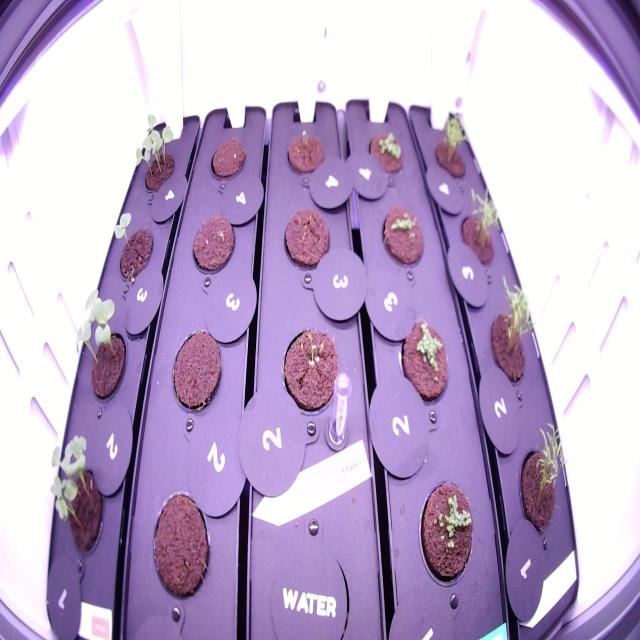germination: (43, 431, 112, 566), (511, 416, 576, 549), (414, 474, 479, 598), (274, 318, 346, 424), (72, 282, 132, 409), (481, 272, 543, 394), (394, 310, 453, 420), (453, 180, 509, 281), (126, 109, 181, 197), (374, 197, 430, 276), (110, 203, 158, 290), (427, 105, 473, 192), (362, 119, 410, 186)
pod: (143, 479, 216, 611), (164, 322, 228, 422), (276, 200, 338, 284), (187, 207, 239, 282), (278, 122, 328, 184), (205, 130, 252, 193)
